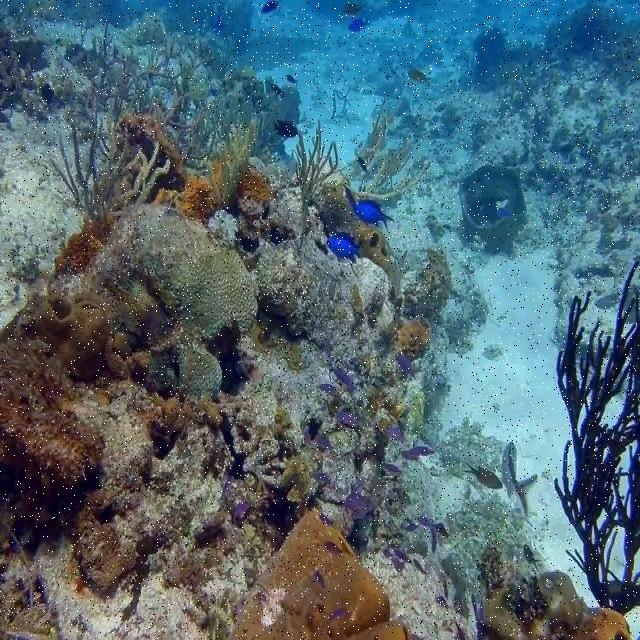fish: (501, 441, 538, 516), (326, 232, 369, 264), (353, 200, 394, 232), (462, 459, 502, 490), (274, 120, 298, 137)
reefs: (50, 22, 289, 273), (554, 255, 639, 616), (294, 99, 432, 255)
sea-floor: (0, 157, 632, 639)
